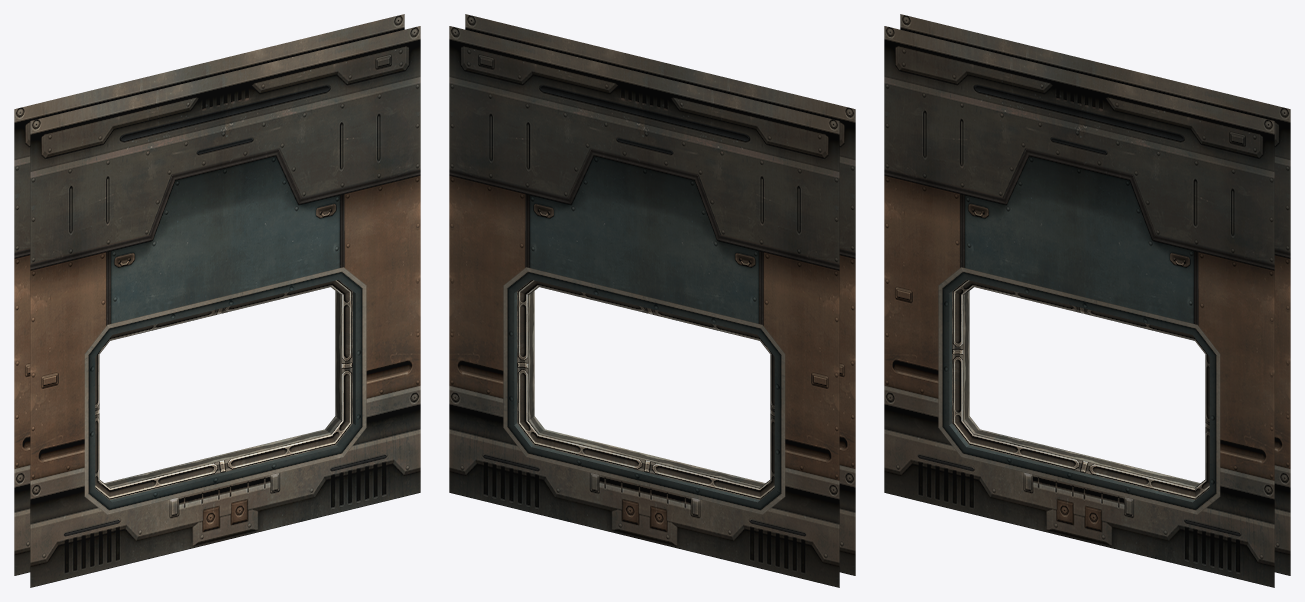
The model's file is mprw_window_cover.FBX.
3 renders of one model, left to right at view 1: azimuth 30°, elevation 25°; view 2: azimuth 150°, elevation 25°; view 3: azimuth 330°, elevation 25°, orthographic.
Parts seen in each view (by area): view 1: mprw_window_cover; view 2: mprw_window_cover; view 3: mprw_window_cover.
Boxes of the visible parts, x1=… form: mprw_window_cover: x1=14, y1=14, x2=420, y2=587; mprw_window_cover: x1=449, y1=14, x2=855, y2=587; mprw_window_cover: x1=884, y1=14, x2=1290, y2=587.
Bounding box in the file's own units: 700 × 800 × 50.
1 material, 1 textured.
